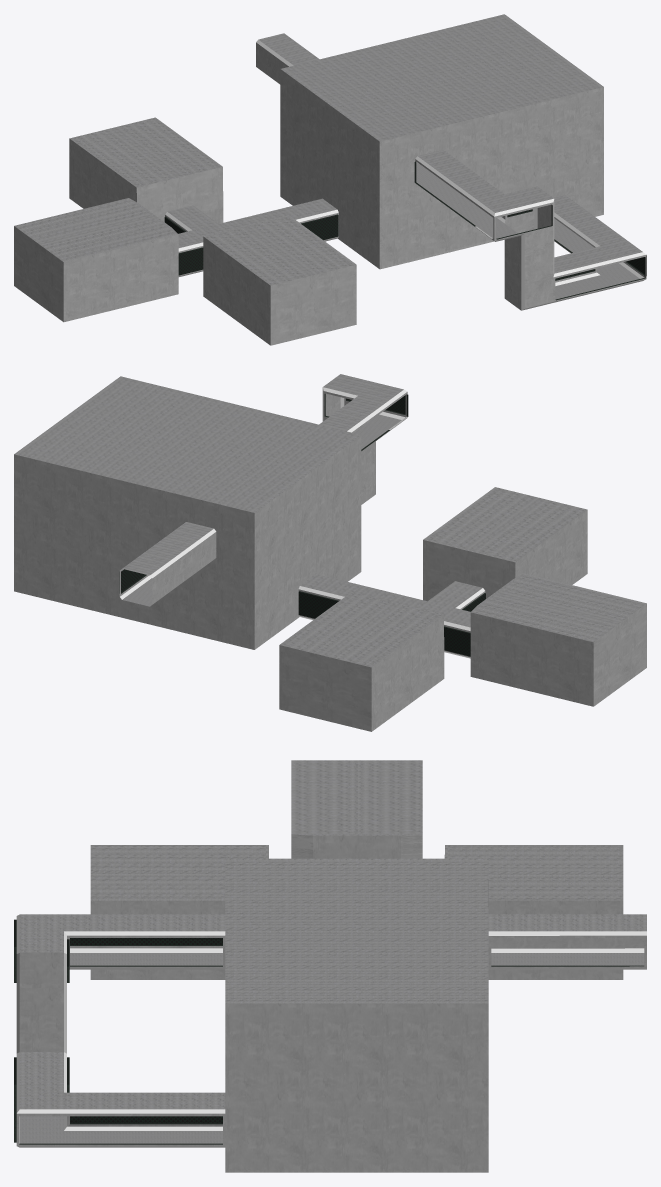
File: WallExport_Updatefbx.fbx
3 renders of one model, top to bottom at view 1: azimuth 30°, elevation 25°; view 2: azimuth 150°, elevation 25°; view 3: azimuth 270°, elevation 25°, orthographic. The views are drawn at different scales.
Visible parts, largest first — view 1: Walls; view 2: Walls; view 3: Walls.
Boxes of the visible parts, x1=… form: Walls: x1=14, y1=14, x2=646, y2=345; Walls: x1=14, y1=374, x2=646, y2=731; Walls: x1=14, y1=760, x2=646, y2=1172.
Bounding box in the file's own units: 3592 × 851 × 2887.
